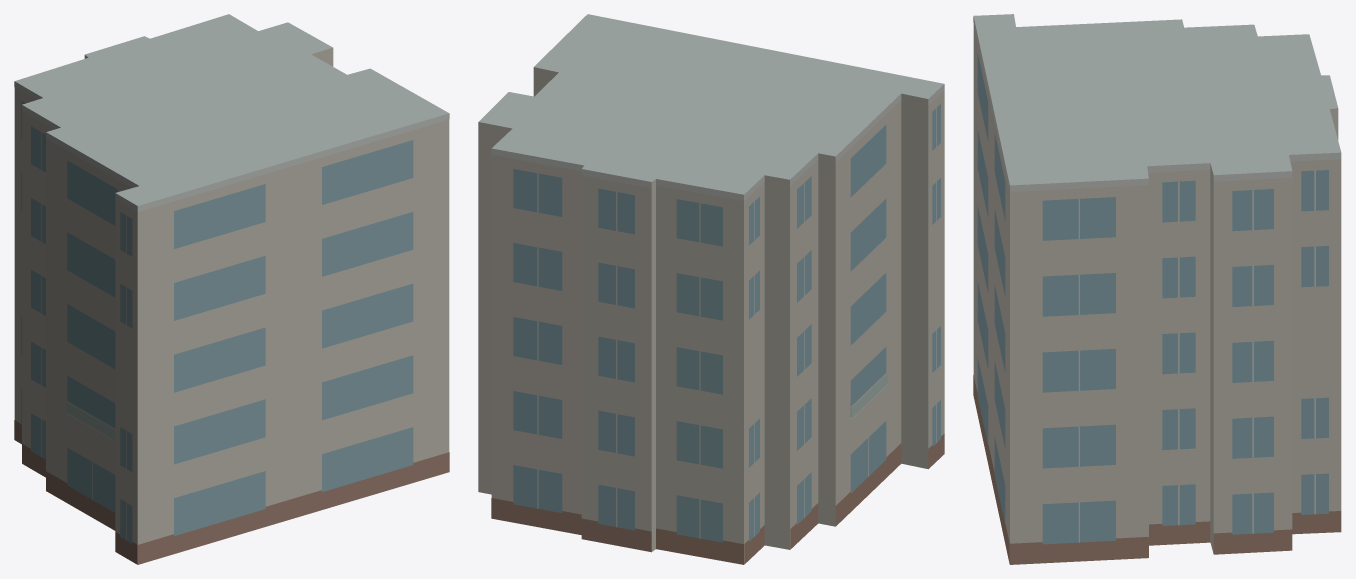
Rendered from survey-upis-32698952.glb.
3 views of the same model, side by side, from view 1: azimuth 30°, elevation 25°; view 2: azimuth 150°, elevation 25°; view 3: azimuth 270°, elevation 25° (orthographic). The views are drawn at different scales.
Visible parts, largest first — view 1: survey-upis-32698952.tmp; view 2: survey-upis-32698952.tmp; view 3: survey-upis-32698952.tmp.
Part boxes in pixels (x1=…): survey-upis-32698952.tmp: x1=14, y1=14, x2=449, y2=564; survey-upis-32698952.tmp: x1=478, y1=14, x2=944, y2=564; survey-upis-32698952.tmp: x1=973, y1=14, x2=1341, y2=564.
Bounding box in the file's own units: 13.77 × 14.2 × 12.49.
